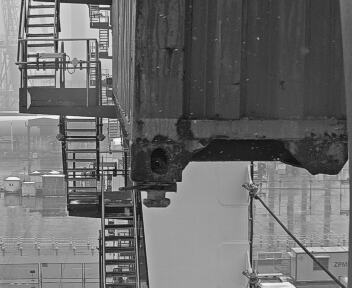twist_lock_1: (142, 158, 185, 189)
